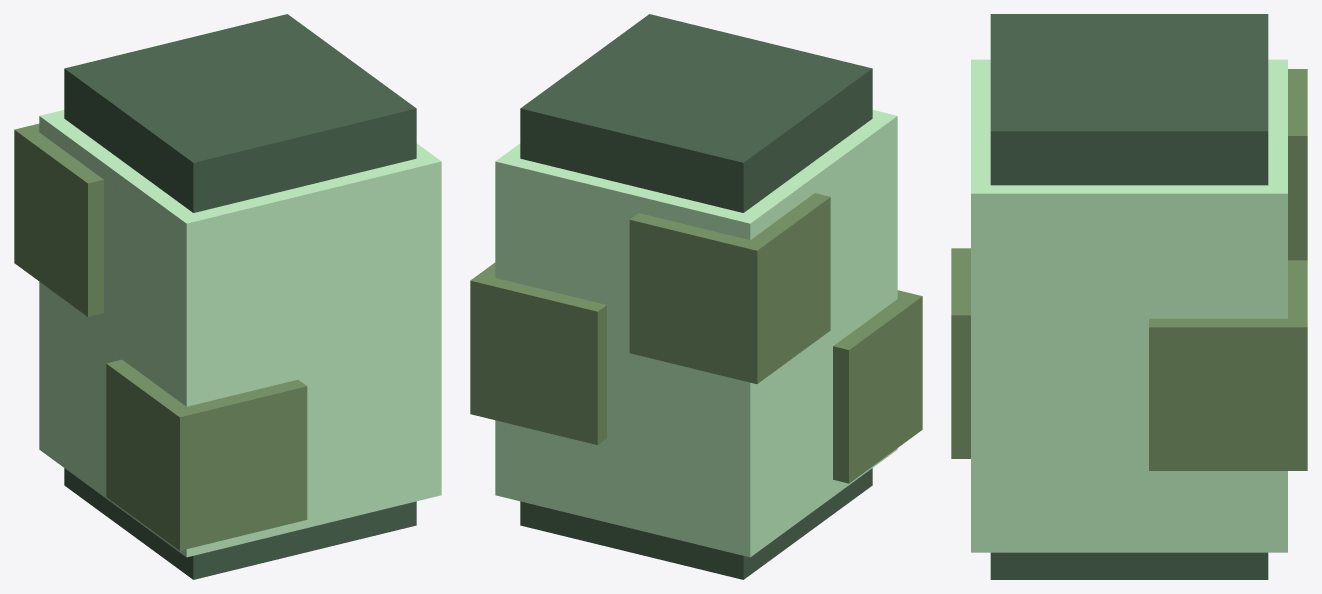
File: egg_nothosaurus.obj
3 views of the same model, side by side, from view 1: azimuth 30°, elevation 25°; view 2: azimuth 150°, elevation 25°; view 3: azimuth 270°, elevation 25° (orthographic). The views are drawn at different scales.
Parts seen in each view (by area): view 1: egg_nothosaurus; view 2: egg_nothosaurus; view 3: egg_nothosaurus.
Boxes of the visible parts, <box> form: egg_nothosaurus: <box>14,14,441,579</box>; egg_nothosaurus: <box>470,14,922,579</box>; egg_nothosaurus: <box>951,14,1307,579</box>.
Bounding box in the file's own units: 4.9 × 6.81 × 4.9.
